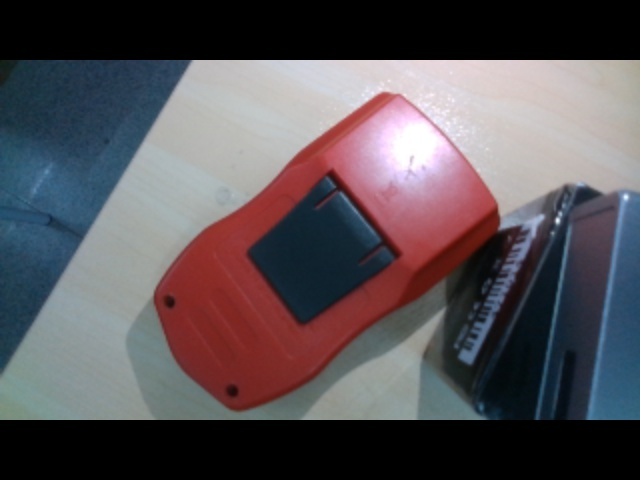Multimeter: (152, 91, 502, 413)
